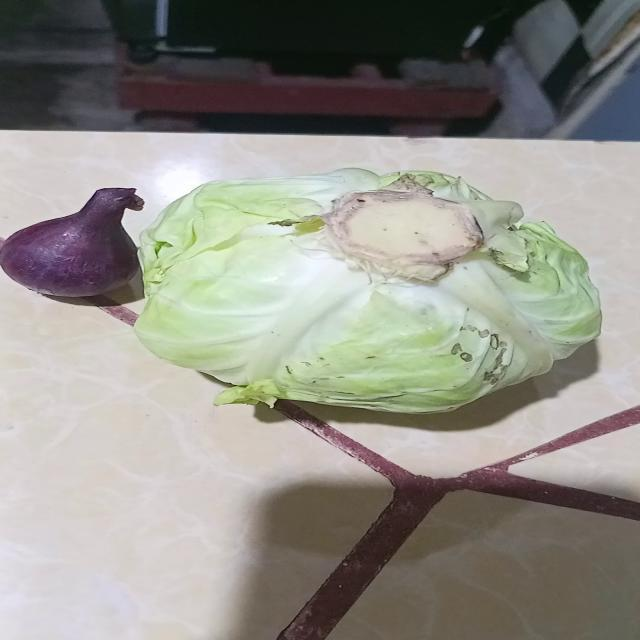cabbage: (133, 169, 602, 416)
onion: (0, 188, 145, 311)
